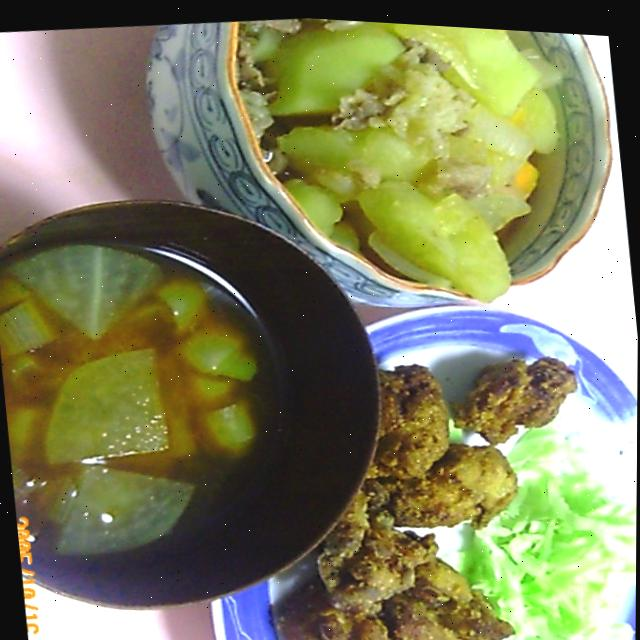鸡肉料理 含炸鸡: (183, 291, 638, 640)
